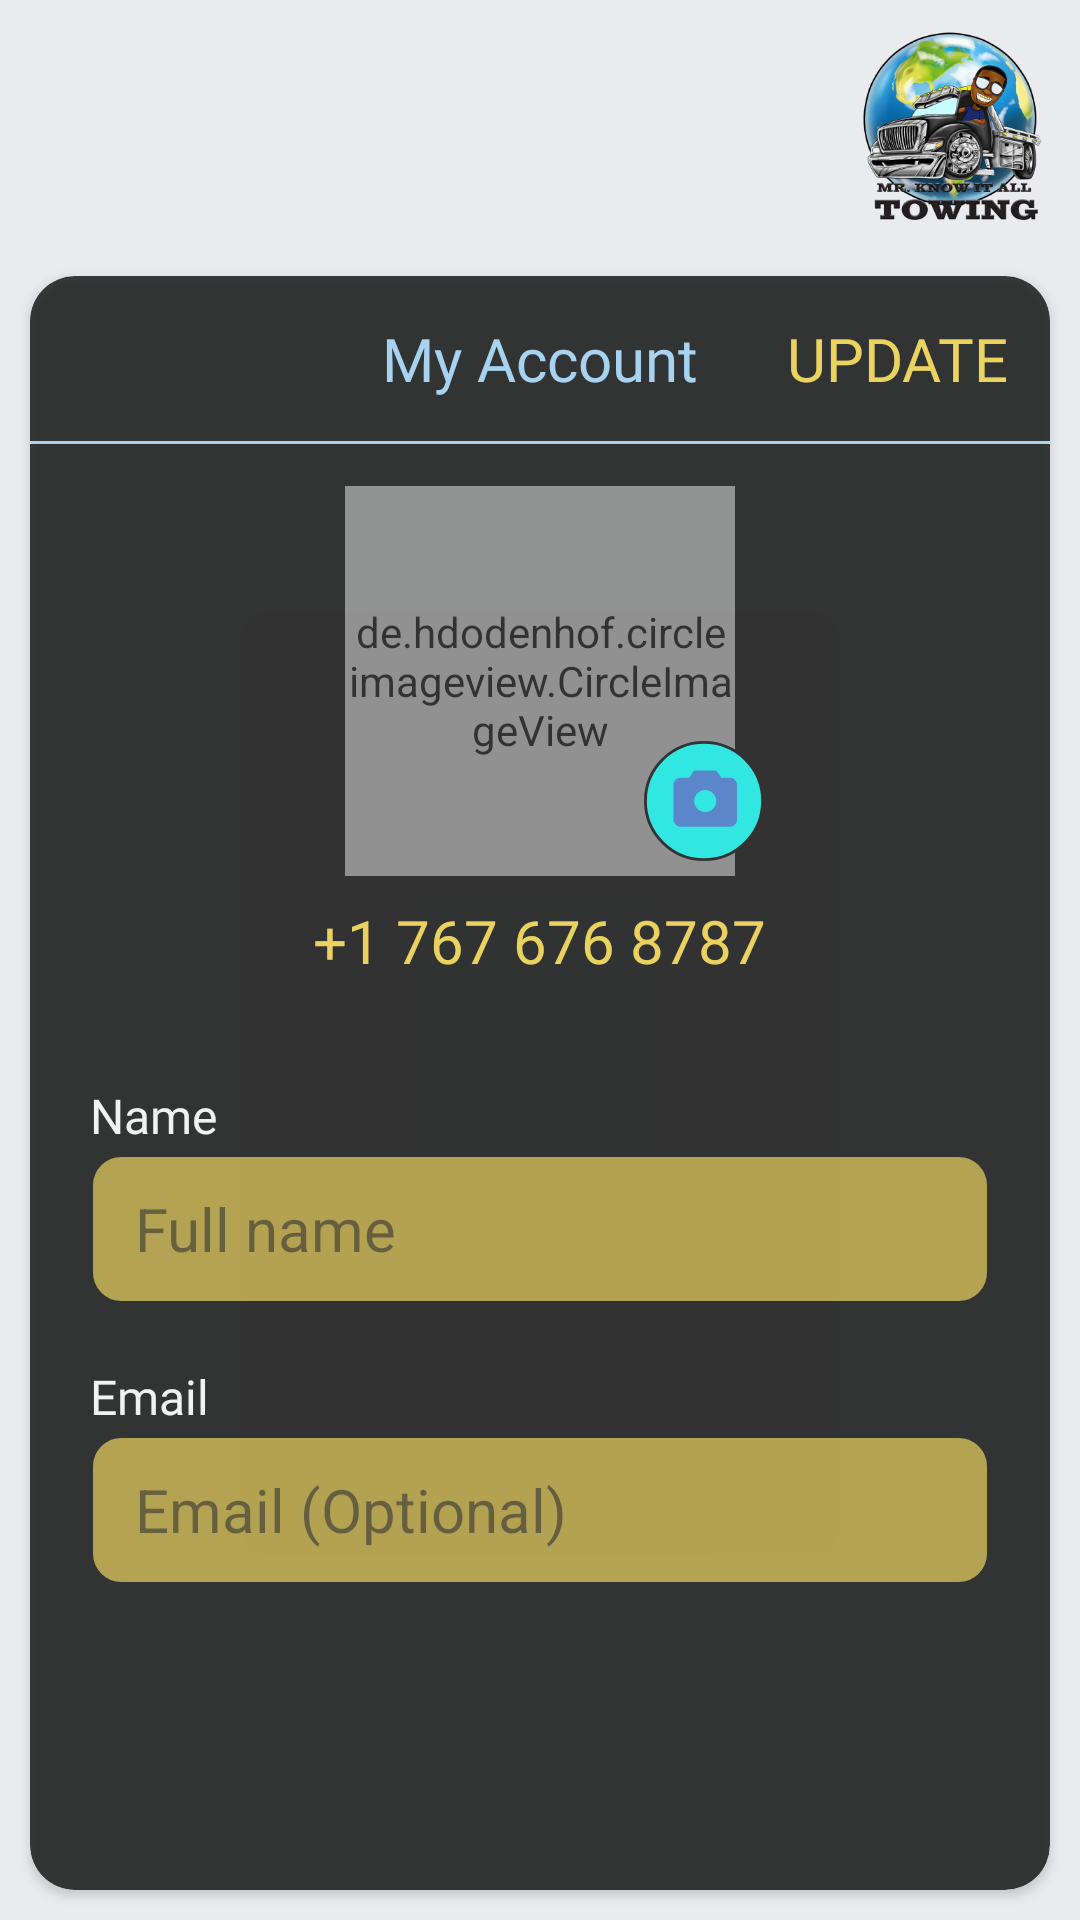

Icons on this 1080x1920 Android screen, each with the point to tap as (x=x, y=y):
camera: (x=704, y=801)
